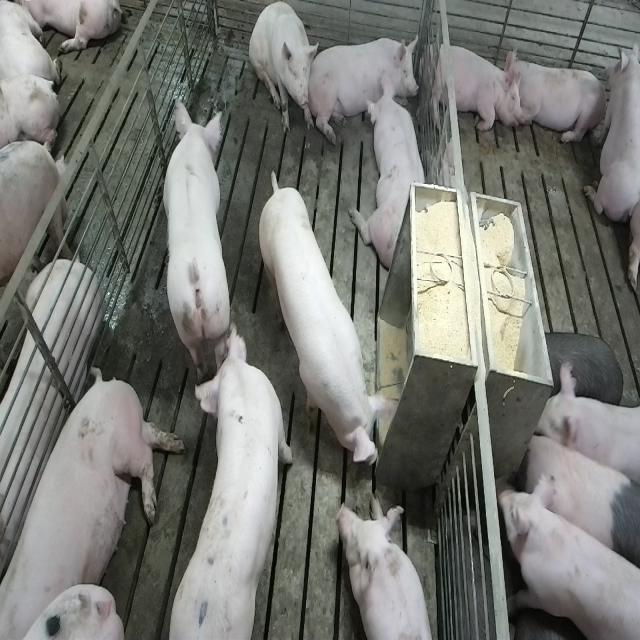Lateral_lying: (5, 363, 187, 635), (0, 259, 102, 579)
Sitting: (250, 3, 318, 138)
Standing: (167, 315, 296, 635), (260, 170, 388, 475), (497, 478, 638, 640), (160, 102, 233, 383), (520, 423, 638, 574), (0, 141, 72, 349), (537, 361, 640, 496)
Sternal_lying: (340, 493, 438, 638), (357, 84, 430, 274), (314, 29, 419, 138), (584, 31, 637, 225), (510, 52, 609, 149), (425, 37, 521, 136)
